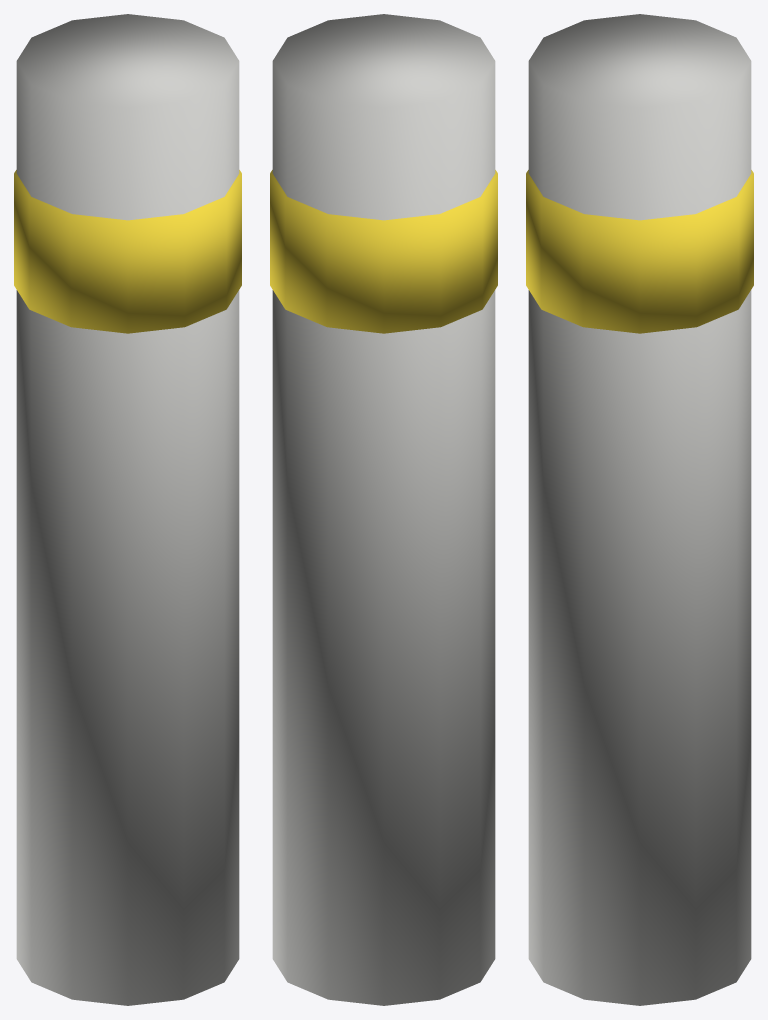
The model's file is life_bollard.glb.
The picture shows the model from 3 angles, left to right: view 1: azimuth 30°, elevation 25°; view 2: azimuth 150°, elevation 25°; view 3: azimuth 270°, elevation 25°; orthographic projection.
Visible parts, largest first — view 1: Bollard; view 2: Bollard; view 3: Bollard.
Boxes of the visible parts, x1,y1,x2,y2 form: Bollard: (14,14,241,1005); Bollard: (270,14,497,1005); Bollard: (526,14,753,1005).
Bounding box in the file's own units: 0.184 × 0.8 × 0.184.
